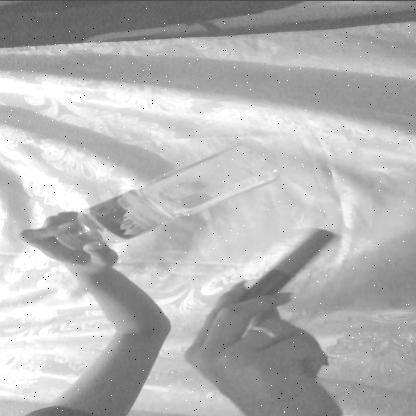Plastic Bottle: (54, 136, 278, 250)
